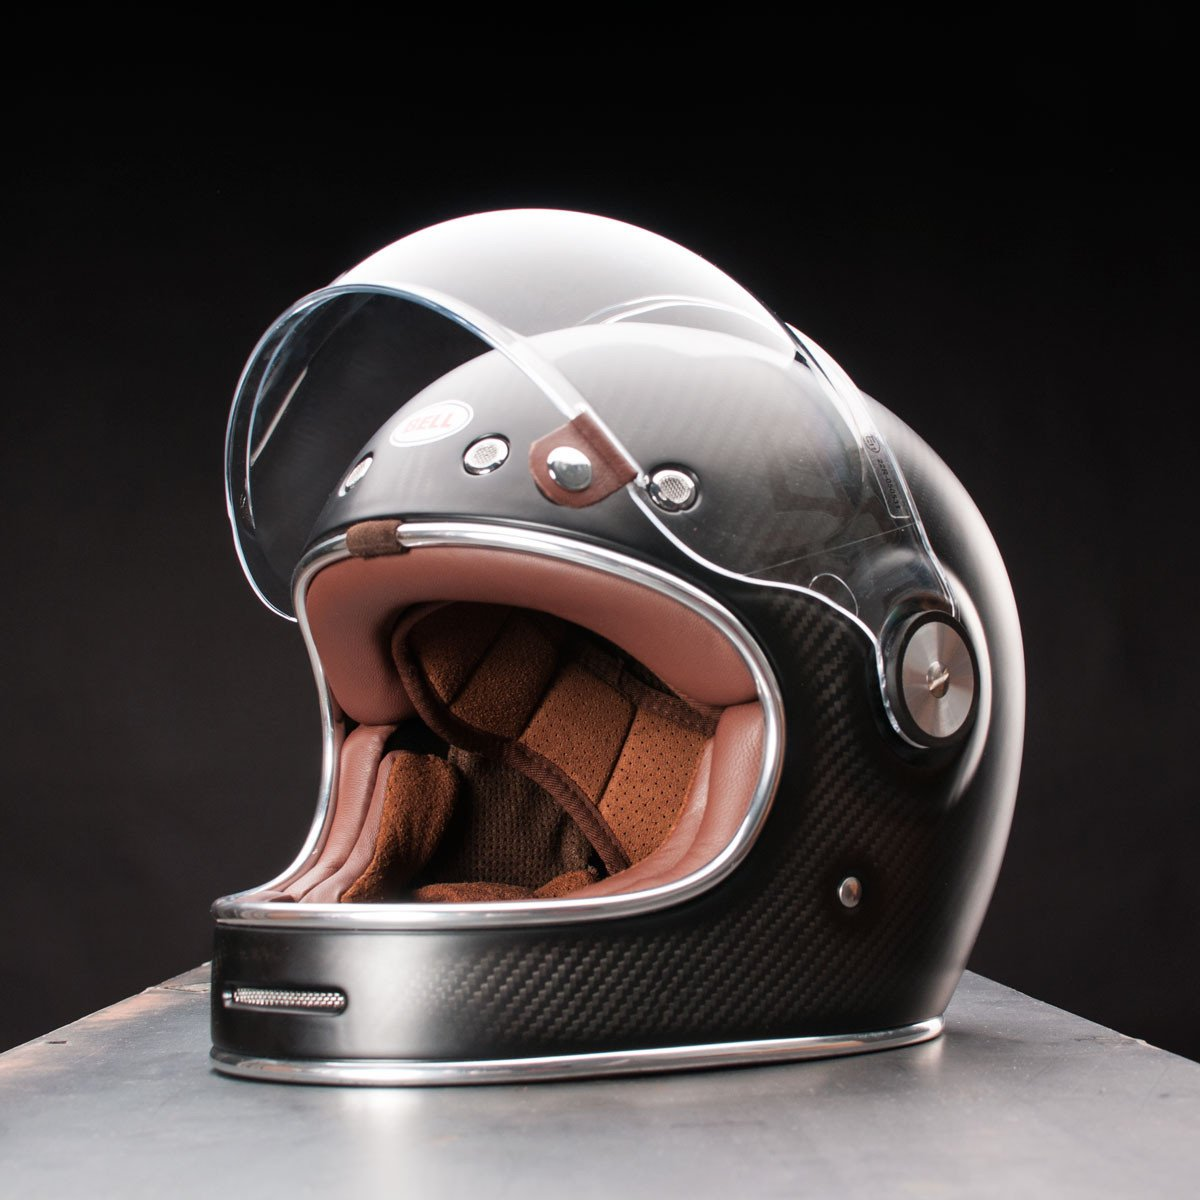helmet: (173, 195, 1034, 1111)
